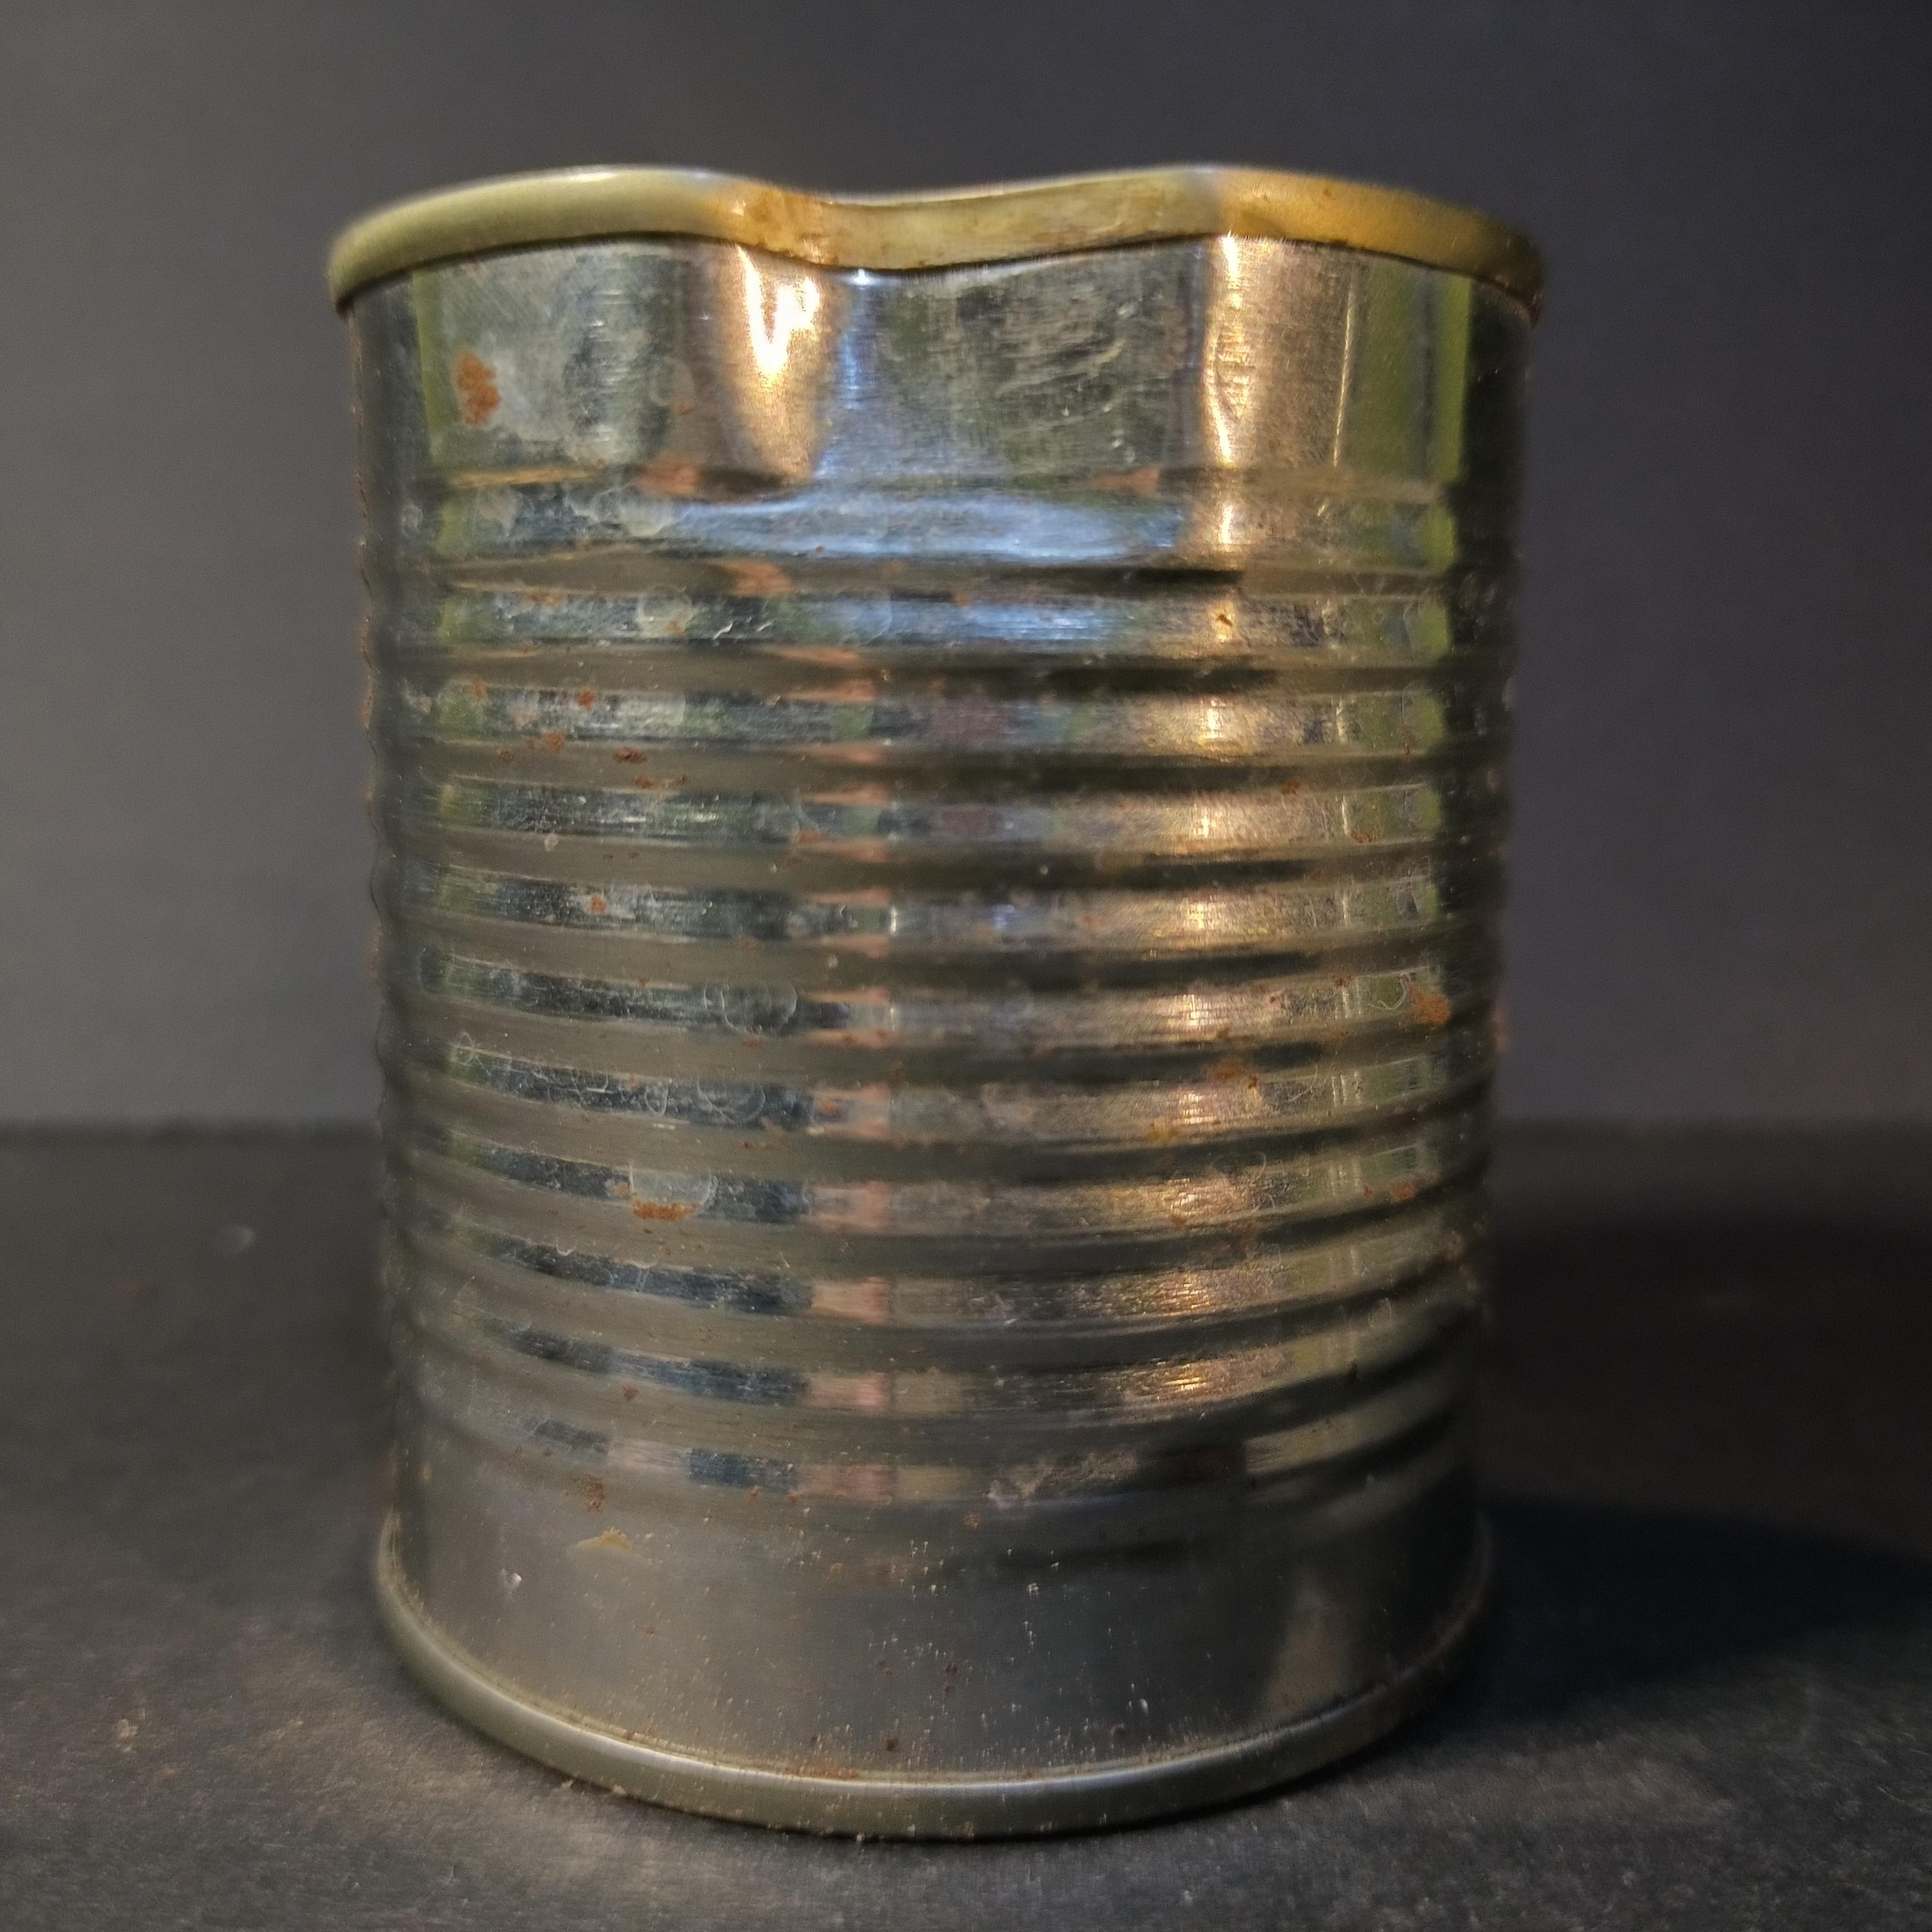Dented: (297, 117, 1573, 1875)
